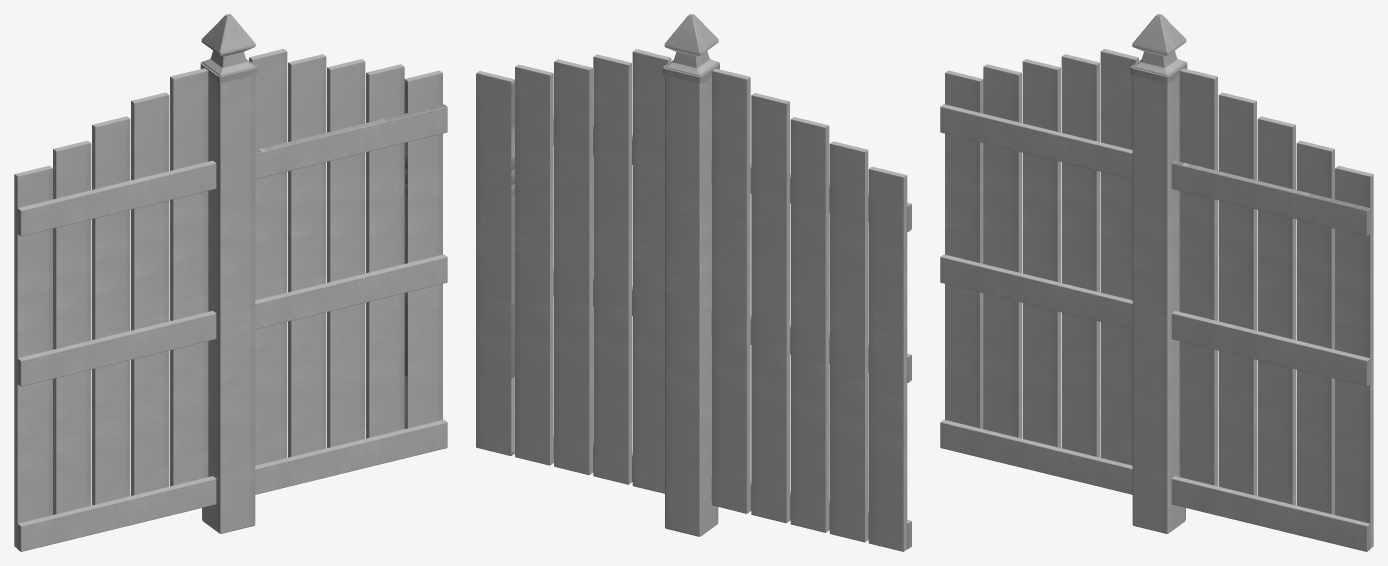
Rendered from fenceB.fbx.
3 views of the same model, side by side, from view 1: azimuth 30°, elevation 25°; view 2: azimuth 150°, elevation 25°; view 3: azimuth 330°, elevation 25° (orthographic).
Parts seen in each view (by area): view 1: innerRingFenceMesh6; view 2: innerRingFenceMesh6; view 3: innerRingFenceMesh6.
Part boxes in pixels (x1=…): innerRingFenceMesh6: x1=14, y1=14, x2=447, y2=551; innerRingFenceMesh6: x1=476, y1=14, x2=911, y2=551; innerRingFenceMesh6: x1=940, y1=14, x2=1373, y2=551.
Size of the model in its own units: 802 by 913 by 66.52.
